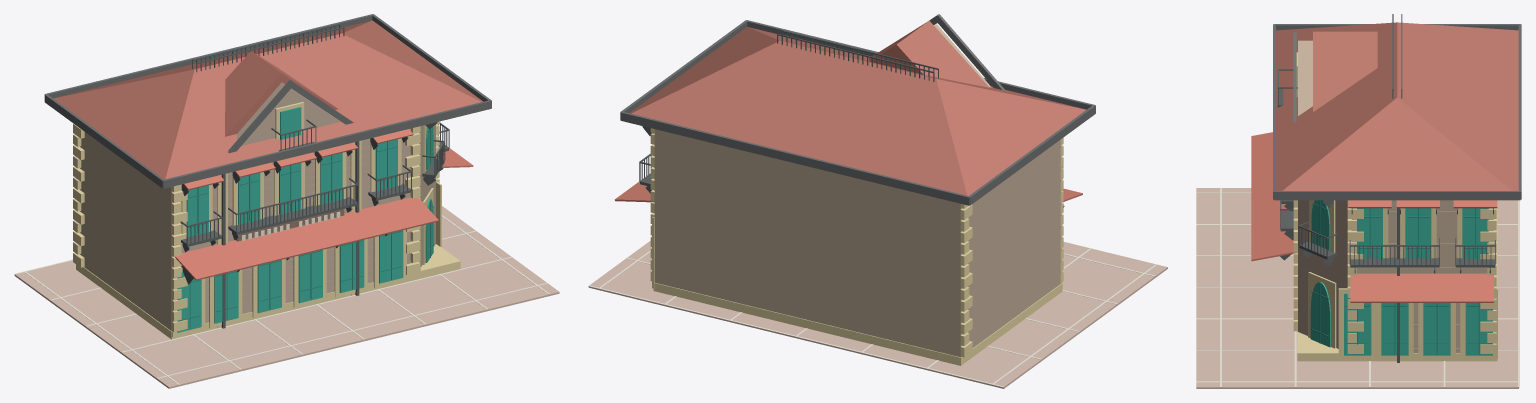
Rendered from estacion-montoya.glb.
3 views of the same model, side by side, from view 1: azimuth 30°, elevation 25°; view 2: azimuth 150°, elevation 25°; view 3: azimuth 270°, elevation 25° (orthographic). The views are drawn at different scales.
Parts seen in each view (by area): view 1: edificio · mat-8a3328, contexto · mat-b98f78, edificio · mat-957659, edificio · mat-dbbb68, edificio · mat-0d7a5f, edificio · mat-b33a2c, edificio · mat-2b2d2e, edificio · mat-1f2324, contexto · mat-e8dcc4, edificio · mat-0a4f3e, edificio · mat-4b3426, edificio · mat-8e735a; view 2: edificio · mat-957659, edificio · mat-8a3328, contexto · mat-b98f78, edificio · mat-2b2d2e, edificio · mat-dbbb68, contexto · mat-e8dcc4, edificio · mat-1f2324, edificio · mat-b33a2c; view 3: edificio · mat-8a3328, contexto · mat-b98f78, edificio · mat-dbbb68, edificio · mat-0d7a5f, edificio · mat-b33a2c, edificio · mat-957659, edificio · mat-2b2d2e, edificio · mat-1f2324, contexto · mat-e8dcc4, edificio · mat-0a4f3e, edificio · mat-8e735a.
Boxes of the visible parts, x1,y1,x2,y2 form: edificio · mat-8a3328: (53,20,482,179); contexto · mat-b98f78: (14,206,559,388); edificio · mat-957659: (80,82,435,330); edificio · mat-dbbb68: (73,102,460,339); edificio · mat-0d7a5f: (177,107,433,332); edificio · mat-b33a2c: (175,129,473,280); edificio · mat-2b2d2e: (44,14,491,188); edificio · mat-1f2324: (180,23,449,328); contexto · mat-e8dcc4: (14,215,549,384); edificio · mat-0a4f3e: (179,128,433,328); edificio · mat-4b3426: (236,209,344,241); edificio · mat-8e735a: (172,129,410,319); edificio · mat-957659: (654,24,1061,357); edificio · mat-8a3328: (629,20,1086,195); contexto · mat-b98f78: (588,241,1167,388); edificio · mat-2b2d2e: (620,14,1095,205); edificio · mat-dbbb68: (650,128,1063,365); contexto · mat-e8dcc4: (588,248,1157,387); edificio · mat-1f2324: (639,30,1064,207); edificio · mat-b33a2c: (614,173,1082,202); edificio · mat-8a3328: (1276,22,1518,190); contexto · mat-b98f78: (1196,188,1518,388); edificio · mat-dbbb68: (1293,52,1497,361); edificio · mat-0d7a5f: (1310,200,1492,355); edificio · mat-b33a2c: (1251,132,1497,302); edificio · mat-957659: (1298,40,1487,352); edificio · mat-2b2d2e: (1273,24,1521,200); edificio · mat-1f2324: (1277,14,1495,362); contexto · mat-e8dcc4: (1196,187,1519,387); edificio · mat-0a4f3e: (1311,200,1491,354); edificio · mat-8e735a: (1297,203,1486,348).
Size of the model in its own units: 19 by 10.85 by 13.11.
